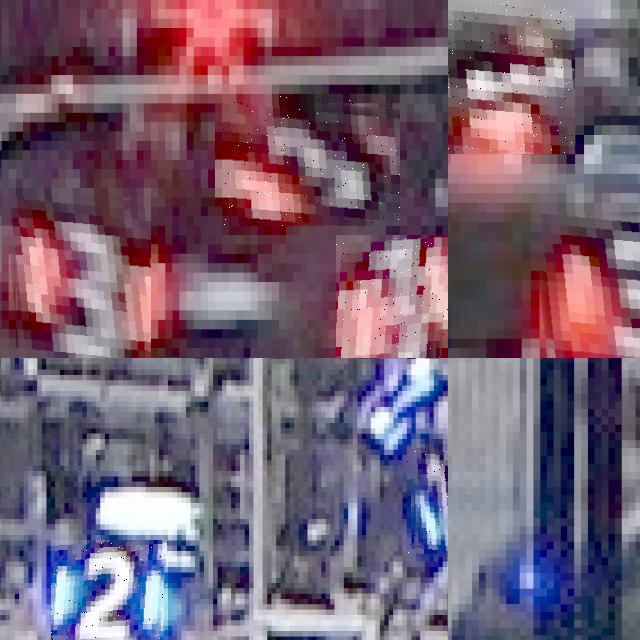B2: (51, 540, 168, 640), (406, 444, 448, 556)
R3: (1, 188, 151, 358), (222, 94, 400, 226), (448, 0, 575, 154), (530, 203, 640, 358), (336, 235, 448, 358)
